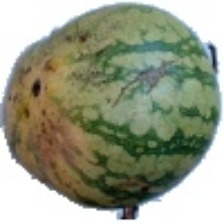watermelon: (28, 60, 200, 199)
